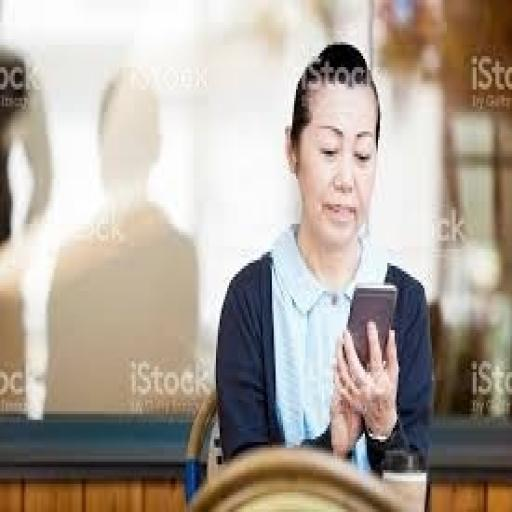texting: (212, 39, 436, 484)
